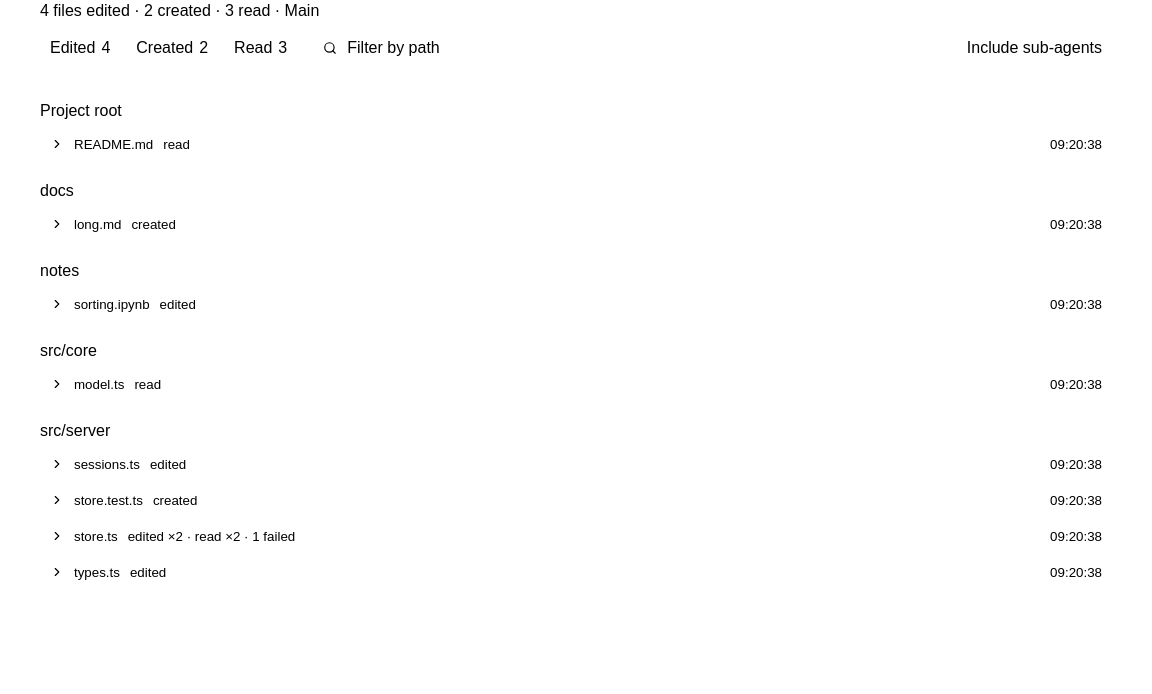
Test: FilesView › offers the rest of a long file written, and a patch as its own lines
The image size is (1152, 694).
Click the button "long.md created 09:20:38" at coordinates (98, 224), box [40,206,1112,242]
(page scrolled)
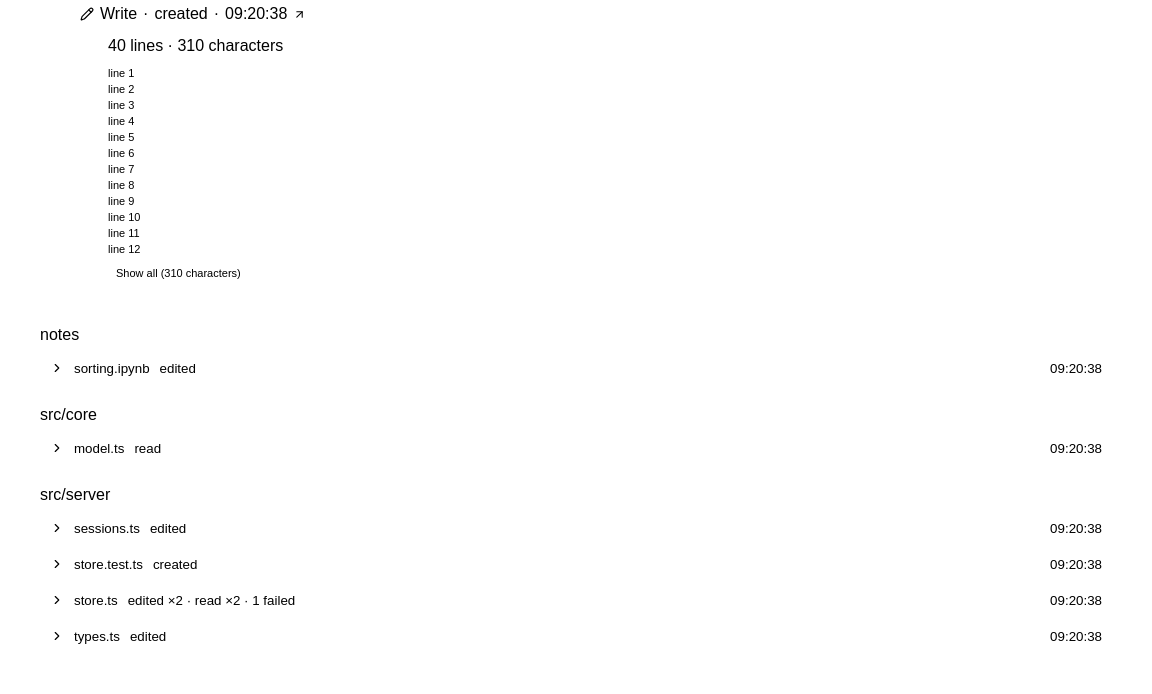
Expected: the text "line 12" is shown, [108,67,140,255]
Click the button "types.ts edited 09:20:38" at coordinates (97, 636), box [40,618,1112,654]
(page scrolled)
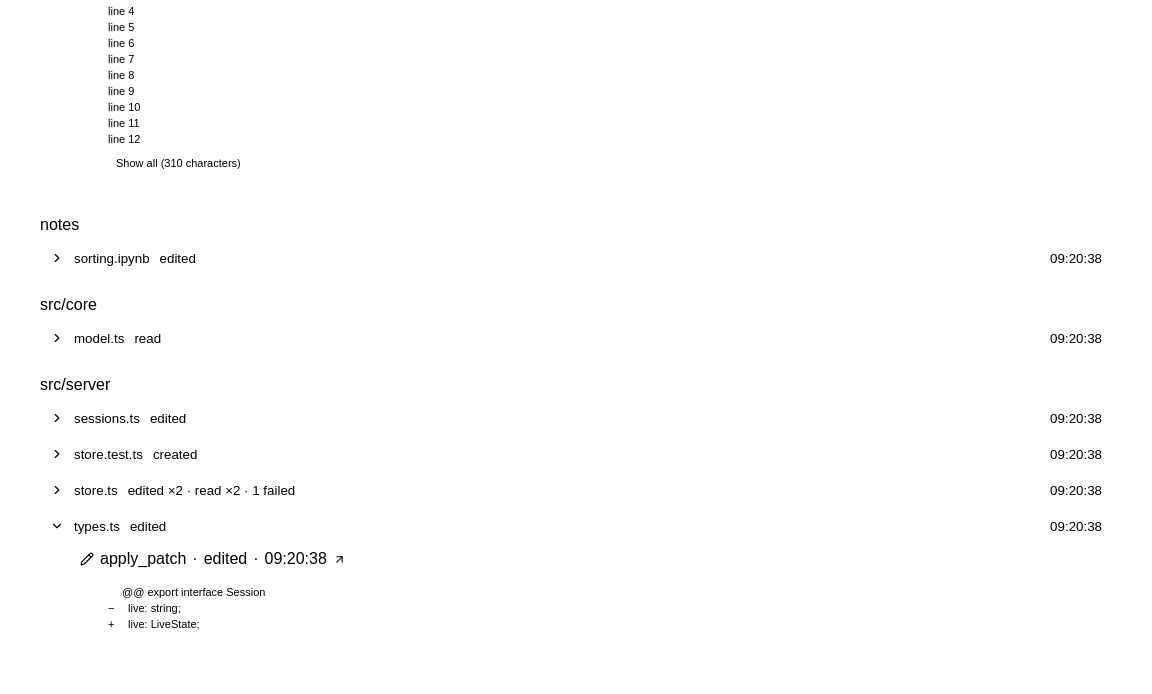
Expected: the text "live: string;" is shown, [122,602,181,614]
Expected: the text "live: LiveState;" is shown, [122,618,200,630]
Expected: the list item "@@ export interface Session" is shown, [122,586,265,598]
